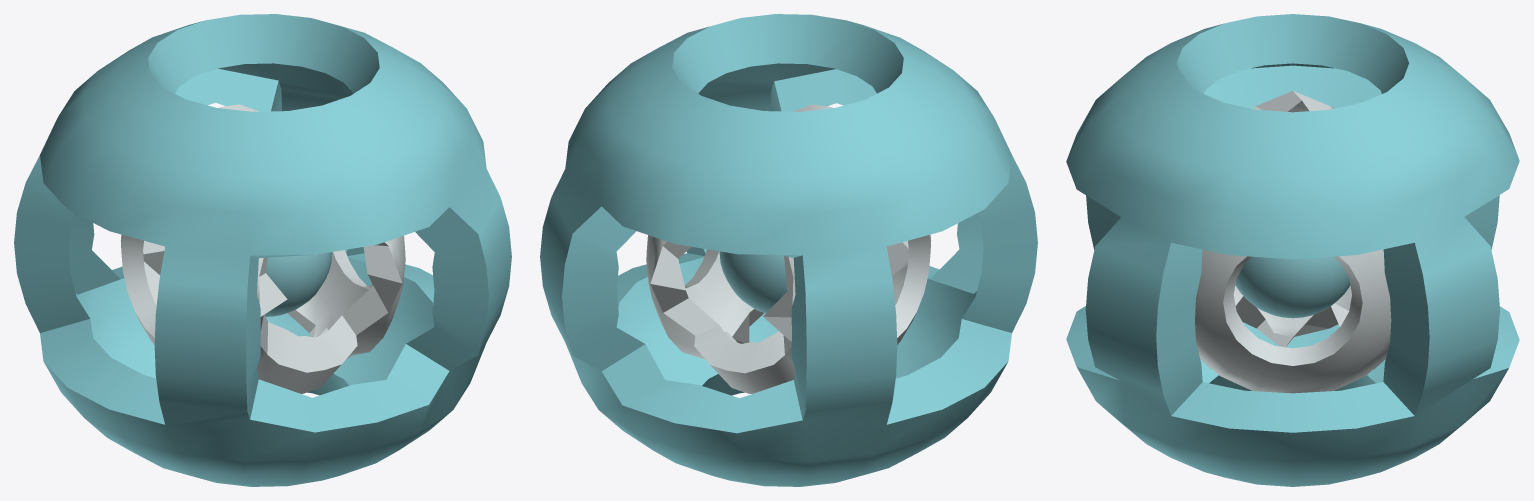
Rendered from ball (1).fbx.
3 views of the same model, side by side, from view 1: azimuth 30°, elevation 25°; view 2: azimuth 150°, elevation 25°; view 3: azimuth 270°, elevation 25° (orthographic).
Parts seen in each view (by area): view 1: pSphere3, pSphere2, pSphere1; view 2: pSphere3, pSphere2, pSphere1; view 3: pSphere3, pSphere2, pSphere1.
Boxes of the visible parts, bbox=[...] form: pSphere3: bbox=[14, 14, 511, 486]; pSphere2: bbox=[120, 104, 405, 393]; pSphere1: bbox=[264, 252, 332, 316]; pSphere3: bbox=[540, 14, 1037, 486]; pSphere2: bbox=[646, 104, 931, 393]; pSphere1: bbox=[719, 251, 787, 313]; pSphere3: bbox=[1066, 14, 1519, 486]; pSphere2: bbox=[1195, 91, 1391, 393]; pSphere1: bbox=[1235, 256, 1350, 318].
Size of the model in its own units: 3.26 by 2.98 by 3.27.
